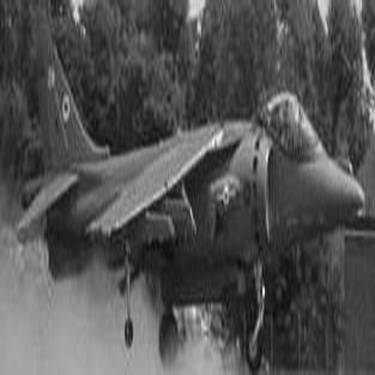airplane: (4, 5, 367, 370)
